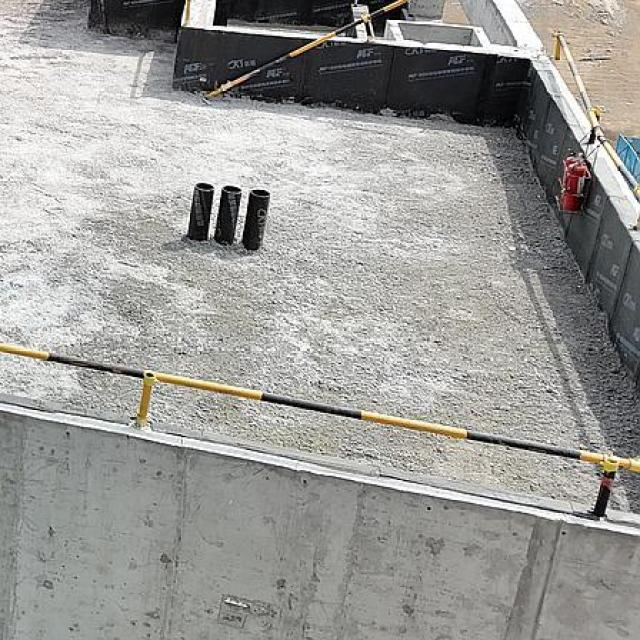Guardrail: (0, 342, 640, 518), (202, 0, 415, 101), (553, 30, 640, 201)
